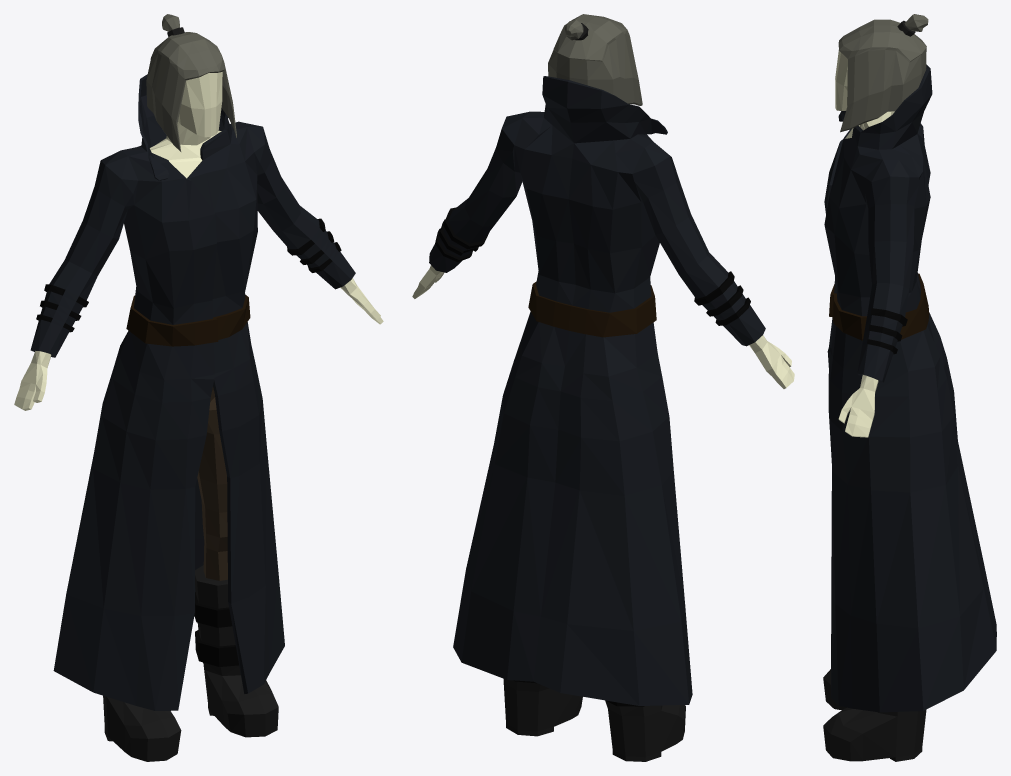
File: dalikan_dd_paladin.glb
The picture shows the model from 3 angles, left to right: view 1: azimuth 30°, elevation 25°; view 2: azimuth 150°, elevation 25°; view 3: azimuth 270°, elevation 25°; orthographic projection. The views are drawn at different scales.
Parts seen in each view (by area): view 1: Box002; view 2: Box002; view 3: Box002.
Part boxes in pixels (x1=…): Box002: x1=14, y1=14, x2=383, y2=761; Box002: x1=412, y1=14, x2=794, y2=761; Box002: x1=823, y1=14, x2=996, y2=761.
Size of the model in its own units: 0.0468 by 0.0866 by 0.0192.
Materials: 1 (1 with a texture image).
